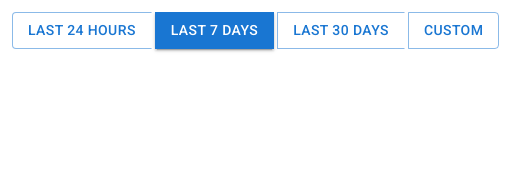
reports native partial date input as invalid without applying it
Click the button "Custom".
click(454, 30)  # box [408, 12, 499, 48]
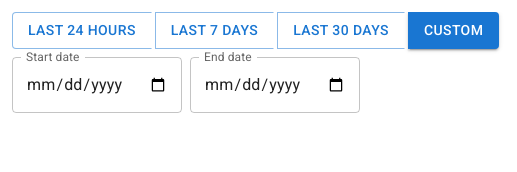
Type "2026-03-08" into the date field labelled "Start date".
click(97, 84); type("2026-03-08")  # box [12, 56, 182, 112]
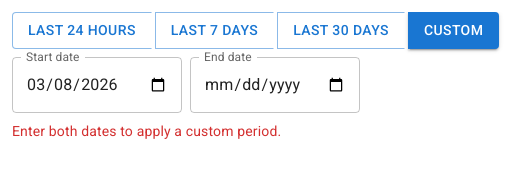
Clear the date field labelled "Start date" at (97, 84), box [12, 56, 182, 112]
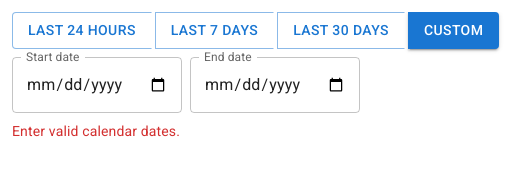
Check: the message shows "Enter valid calendar dates", box [12, 122, 180, 138]
